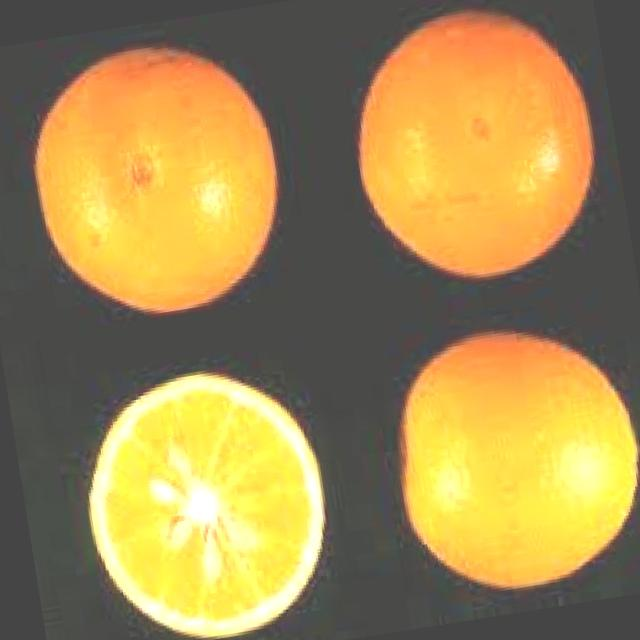Orange: (18, 28, 298, 328), (337, 0, 615, 294), (69, 354, 347, 640), (379, 308, 640, 603)
